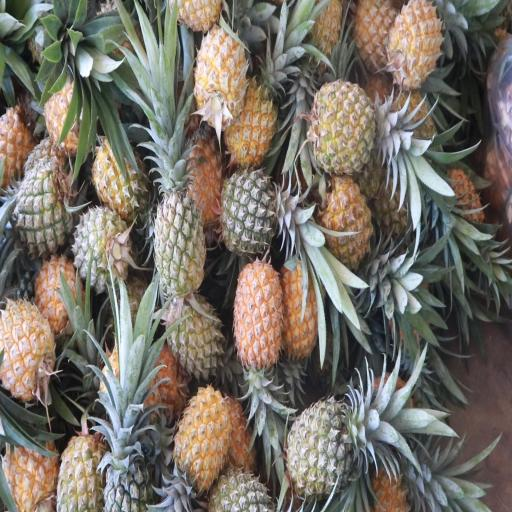------------------------------: (154, 165, 206, 292), (313, 83, 386, 171), (165, 293, 224, 386), (90, 139, 148, 217), (32, 257, 84, 338)
Pineapple - v8 v1: (174, 387, 233, 490), (2, 300, 55, 402), (235, 261, 284, 371), (193, 21, 246, 119), (280, 251, 326, 363), (223, 71, 276, 166), (319, 172, 373, 264), (3, 430, 59, 512), (177, 127, 222, 229), (391, 3, 444, 84), (59, 436, 107, 509)
